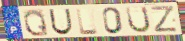0: (101, 6, 124, 35)
L: (75, 7, 100, 36)
Q: (22, 9, 50, 38)
U: (125, 5, 152, 34), (48, 8, 74, 36)
Z: (150, 5, 179, 34)
